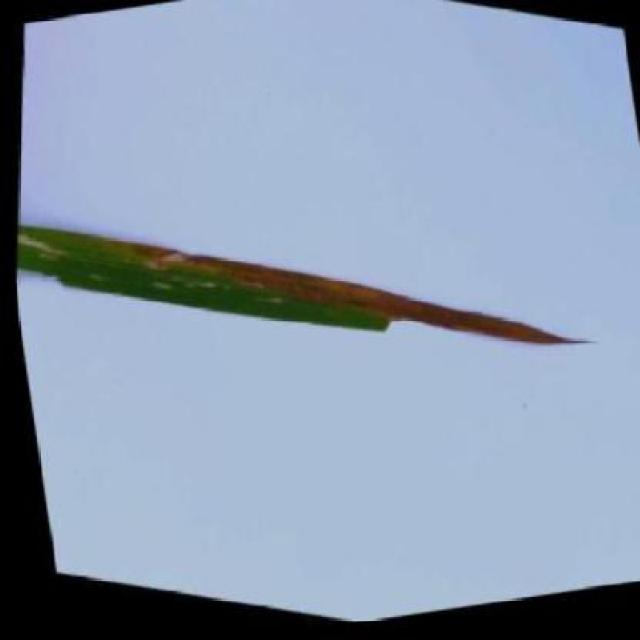Rice False Smut: (8, 152, 590, 423)
